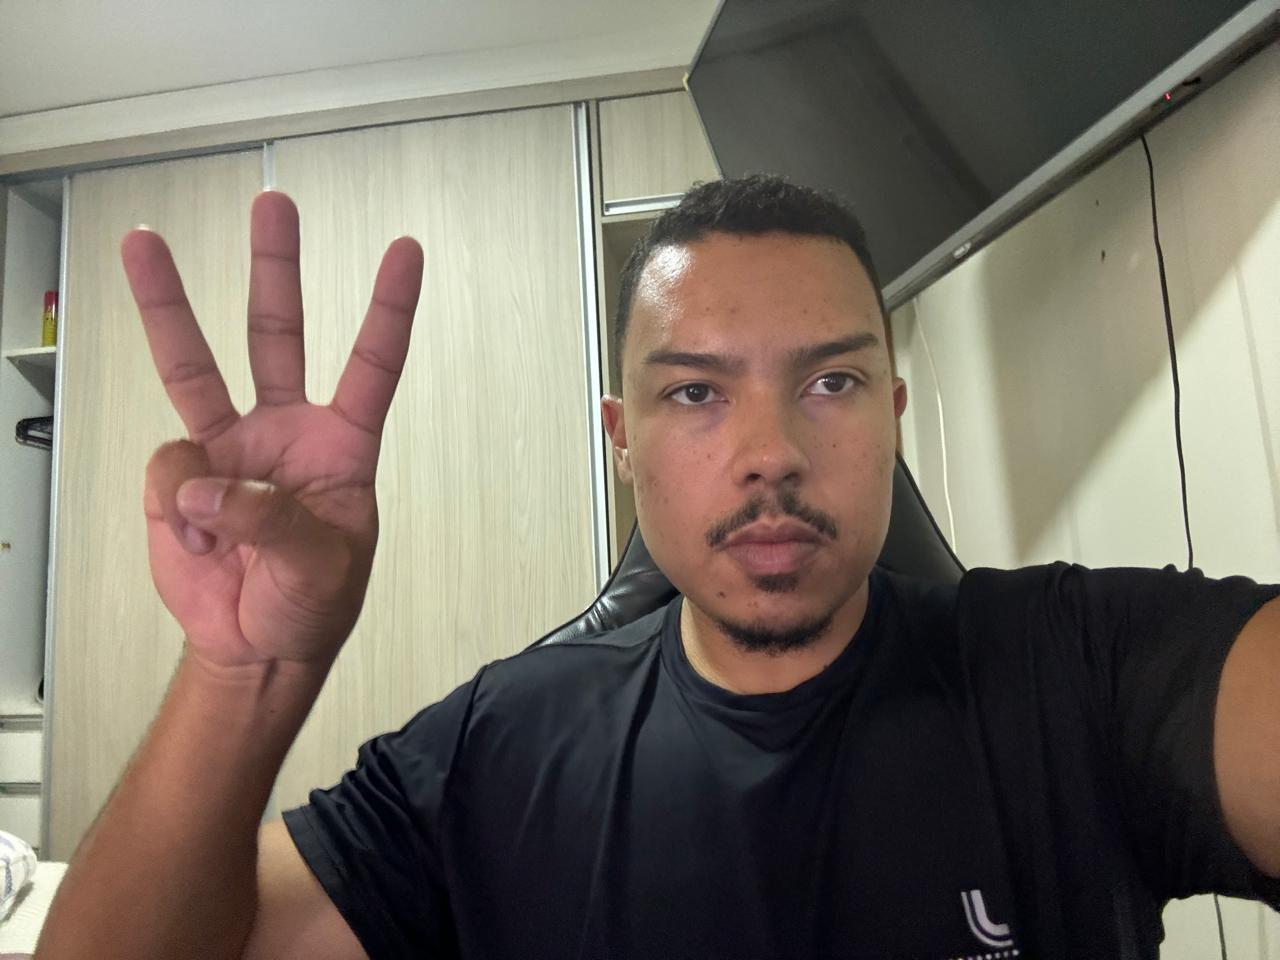w: (106, 182, 432, 686)
